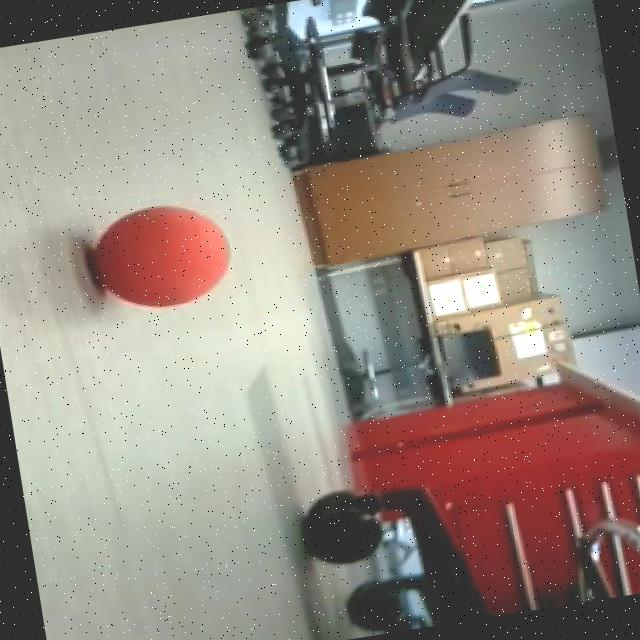ping-pong-ball: (80, 192, 239, 320)
